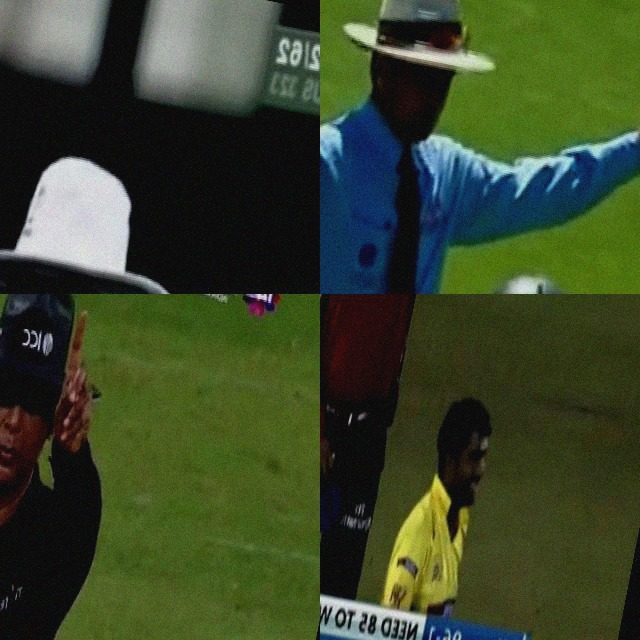No_Action: (0, 107, 274, 294)
Out: (0, 294, 170, 640), (320, 294, 494, 607)
Wide: (320, 0, 640, 294)
